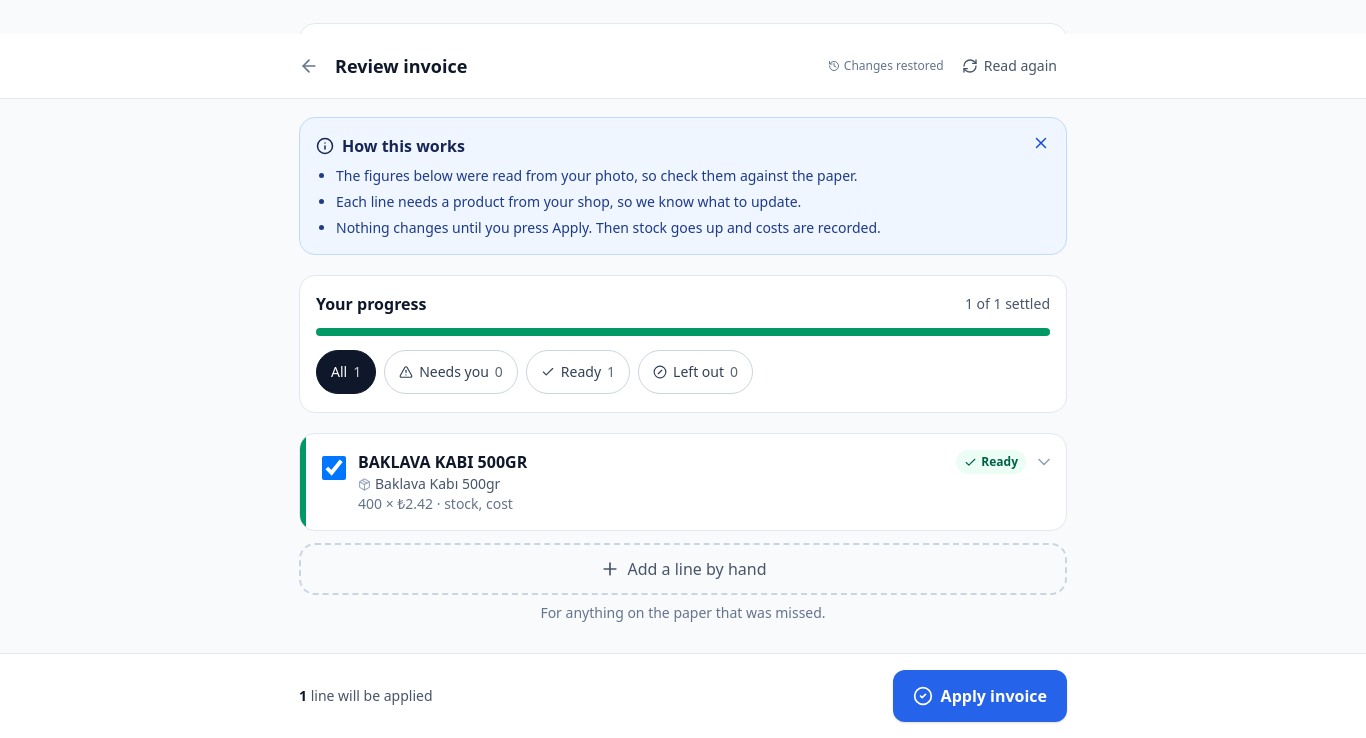
what the screen says about the reading itself › says why a line was matched, so a filled-in product is not a mystery
Expected: the text "BAKLAVA KABI 500GR" is shown, [358,451,527,473]
What coordinates should you click on to do the following:
click the button "BAKLAVA KABI 500GR"
I would click on:
 (443, 462)
Its box is [358,446,1054,518].
(page scrolled)
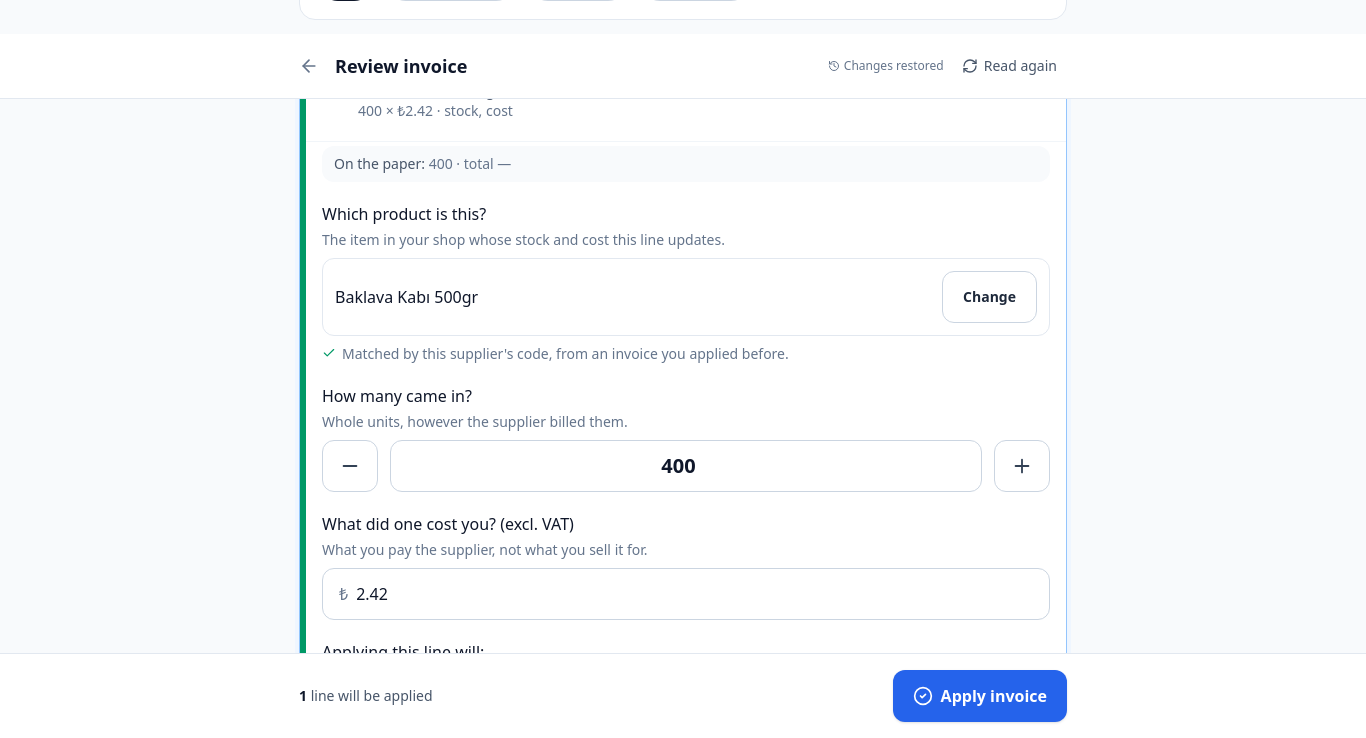
Now the text "from an invoice you applied before" is shown, box [342,344,789,363]
